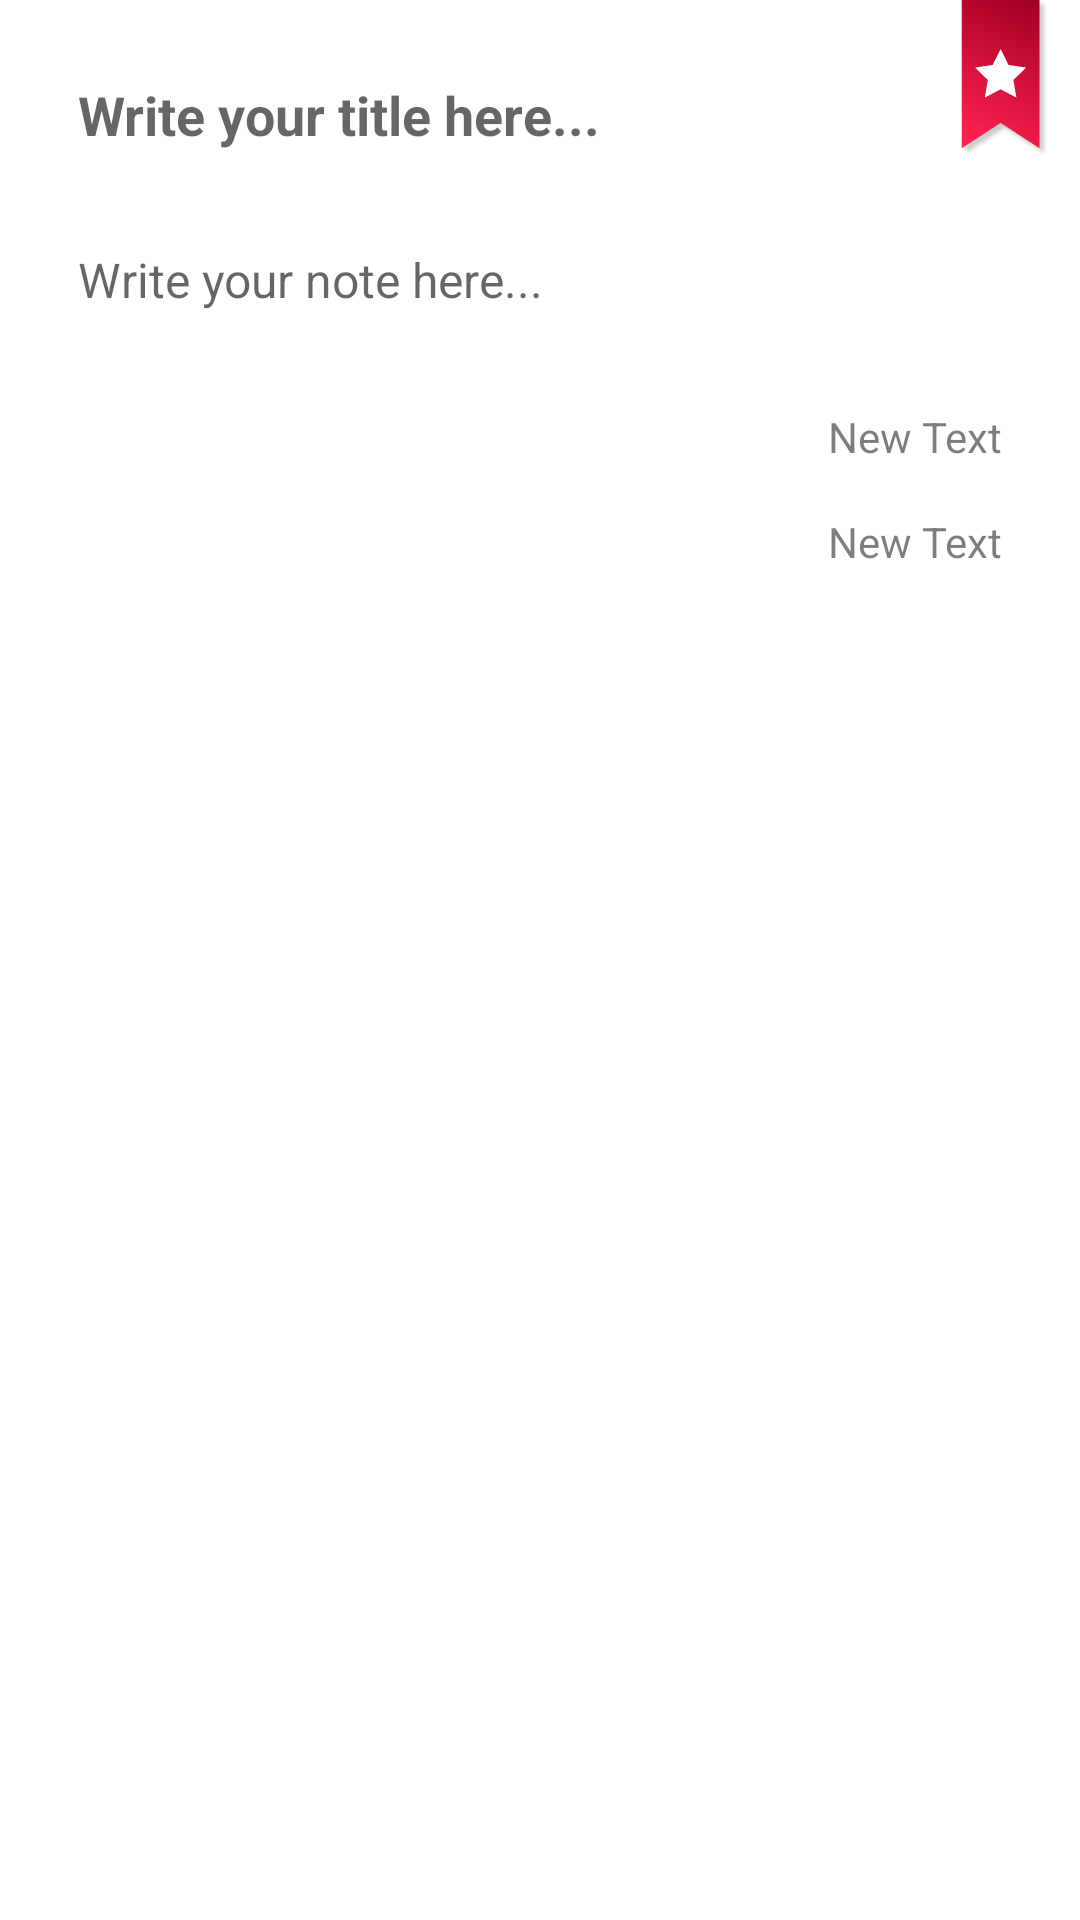

Named icons in this screenshot (1080 × 1920) and their bounding boxes, [x1=x1, y1=y1, x2=x2, y2=y2]:
flag: [x1=961, y1=0, x2=1044, y2=151]
